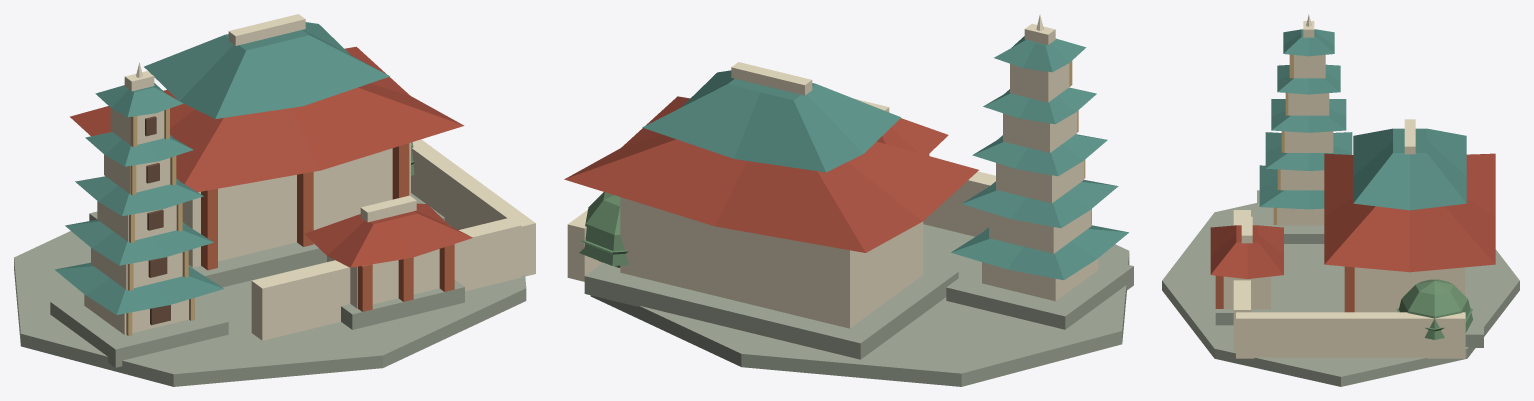
The model's file is heijokyo.glb.
3 views of the same model, side by side, from view 1: azimuth 30°, elevation 25°; view 2: azimuth 150°, elevation 25°; view 3: azimuth 270°, elevation 25° (orthographic). The views are drawn at different scales.
Visible parts, largest first — view 1: heijokyo_cream, heijokyo_stone, heijokyo_teal, heijokyo_roof_red, heijokyo_terracotta, heijokyo_sandstone, heijokyo_dark_wood; view 2: heijokyo_stone, heijokyo_cream, heijokyo_teal, heijokyo_roof_red, heijokyo_foliage; view 3: heijokyo_cream, heijokyo_stone, heijokyo_roof_red, heijokyo_teal, heijokyo_foliage, heijokyo_terracotta, heijokyo_sandstone.
Boxes of the visible parts, box(x1,y1,x2,y2) form: heijokyo_cream: box(84, 14, 535, 340); heijokyo_stone: box(14, 193, 526, 386); heijokyo_teal: box(55, 22, 389, 314); heijokyo_roof_red: box(70, 46, 472, 267); heijokyo_terracotta: box(201, 143, 454, 311); heijokyo_sandstone: box(126, 108, 194, 335); heijokyo_dark_wood: box(145, 116, 170, 325); heijokyo_stone: box(584, 224, 1133, 386); heijokyo_cream: box(567, 14, 1098, 328); heijokyo_teal: box(642, 36, 1128, 280); heijokyo_roof_red: box(564, 96, 978, 252); heijokyo_foliage: box(579, 192, 628, 267); heijokyo_cream: box(1223, 14, 1465, 358); heijokyo_stone: box(1162, 190, 1519, 386); heijokyo_roof_red: box(1210, 153, 1495, 278); heijokyo_teal: box(1259, 29, 1466, 210); heijokyo_foliage: box(1396, 279, 1472, 339); heijokyo_terracotta: box(1215, 266, 1354, 312); heijokyo_sandstone: box(1273, 54, 1293, 224).
Bounding box in the file's own units: 2.1 × 1.11 × 1.65.
